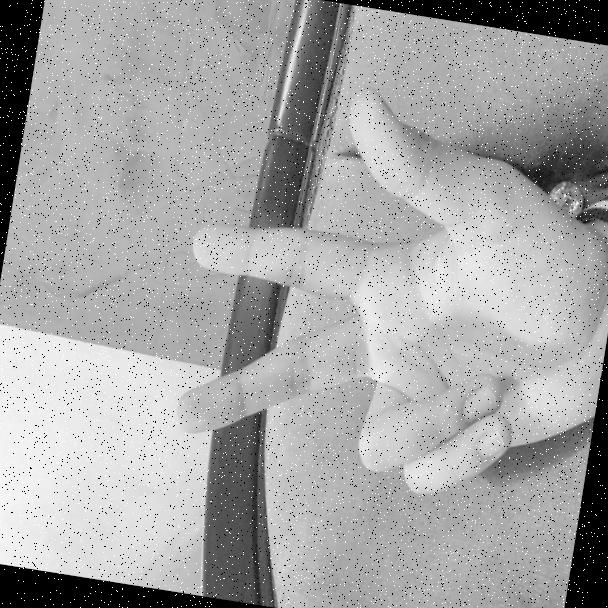three: (143, 48, 608, 535)
